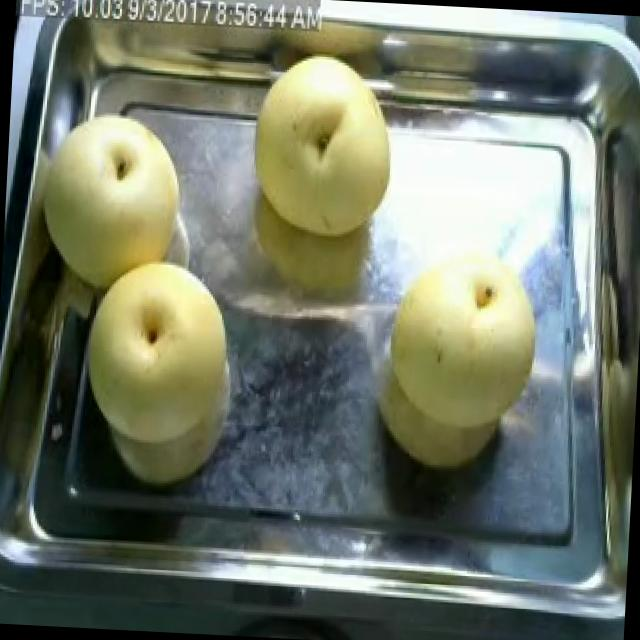Fruit: (70, 243, 266, 500), (364, 238, 550, 480), (17, 96, 205, 311), (226, 42, 410, 252)
